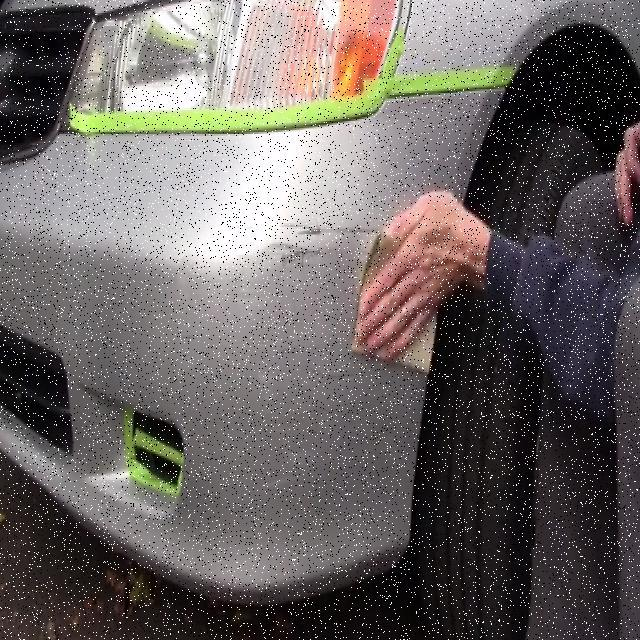front-bumper-dent: (7, 125, 480, 592)
